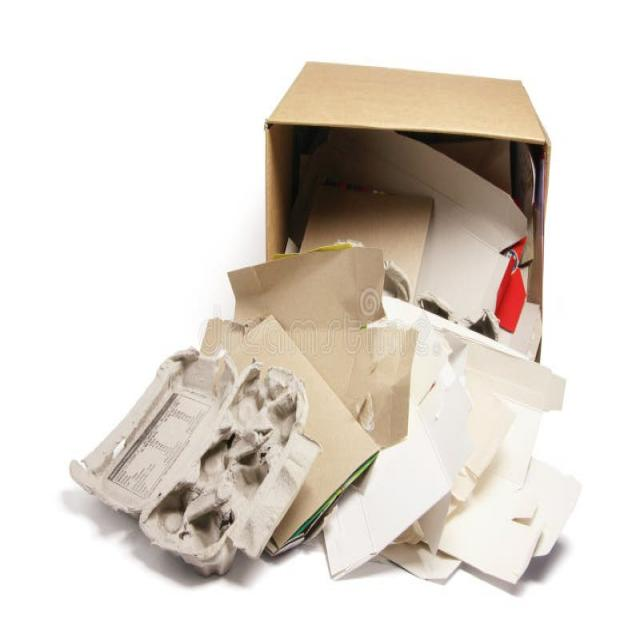Paper -Biodegradable-: (74, 60, 579, 584)
